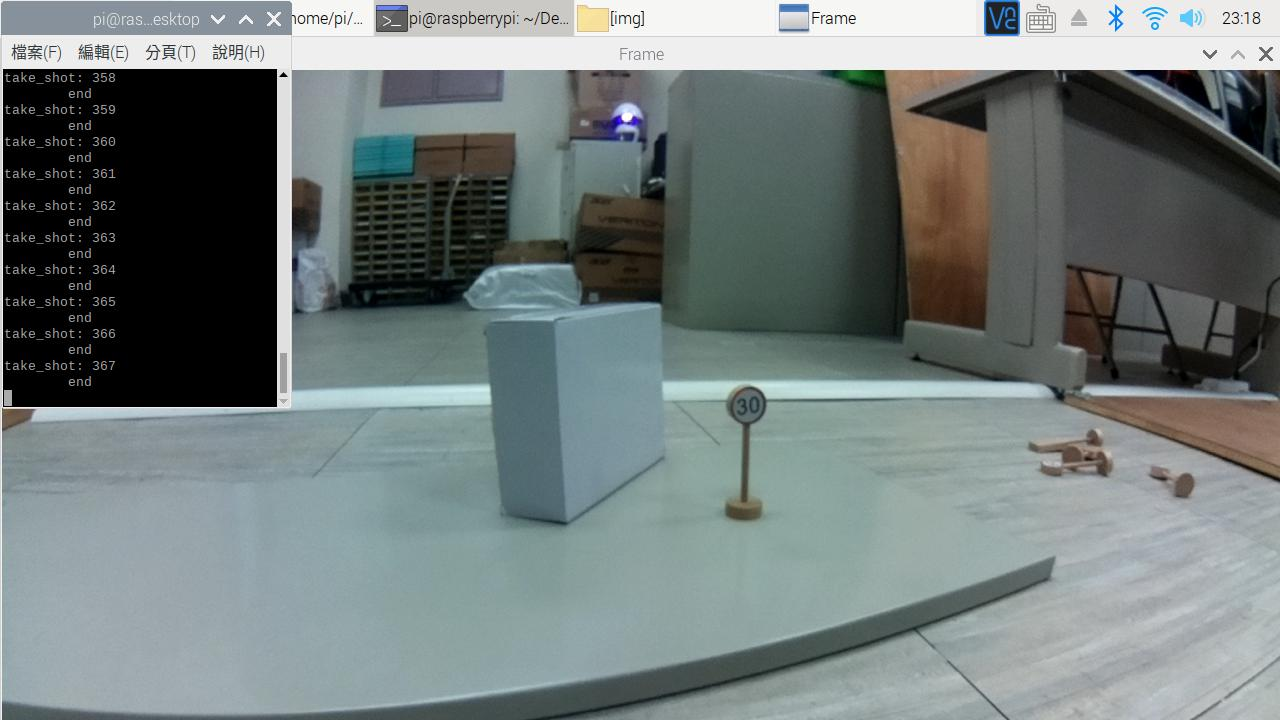Speed30: (724, 370, 773, 434)
